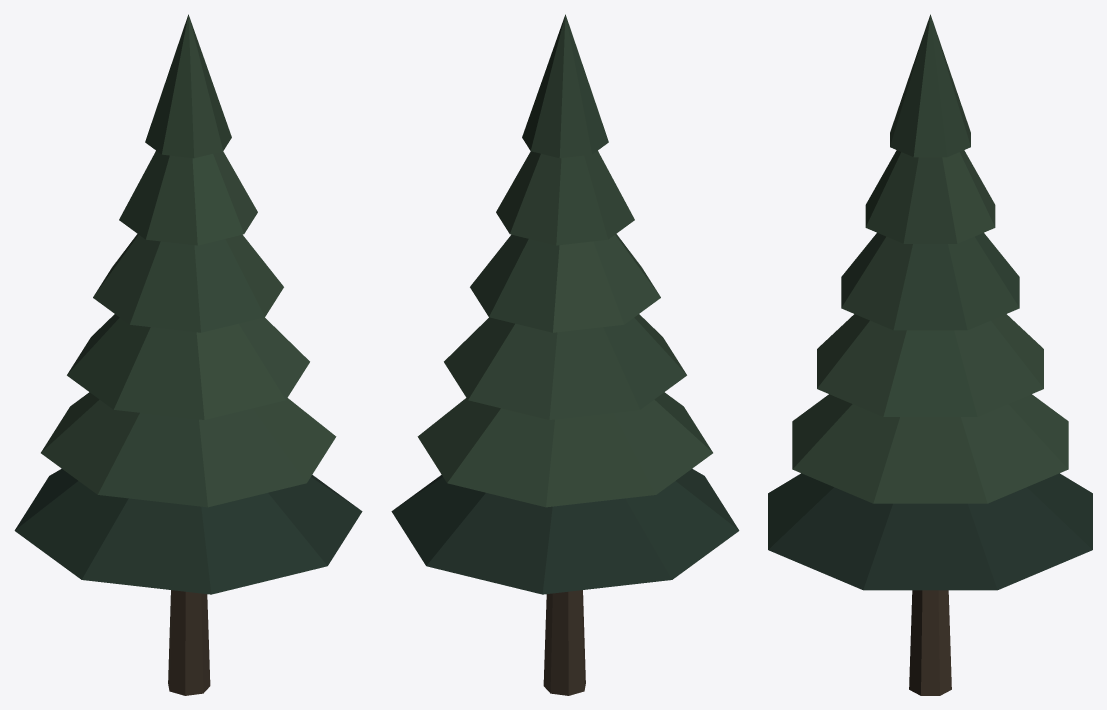
The model's file is walk_prop_pine.glb.
The picture shows the model from 3 angles, left to right: view 1: azimuth 30°, elevation 25°; view 2: azimuth 150°, elevation 25°; view 3: azimuth 270°, elevation 25°; orthographic projection.
Visible parts, largest first — view 1: walk_prop_pine; view 2: walk_prop_pine; view 3: walk_prop_pine.
Part boxes in pixels (x1,y1,x2,y2): walk_prop_pine: (14,14,362,695); walk_prop_pine: (391,14,739,695); walk_prop_pine: (768,14,1092,695).
Size of what is drawn, in the model's own units: 4.43 by 10.15 by 4.43.
1 material, 1 textured.
